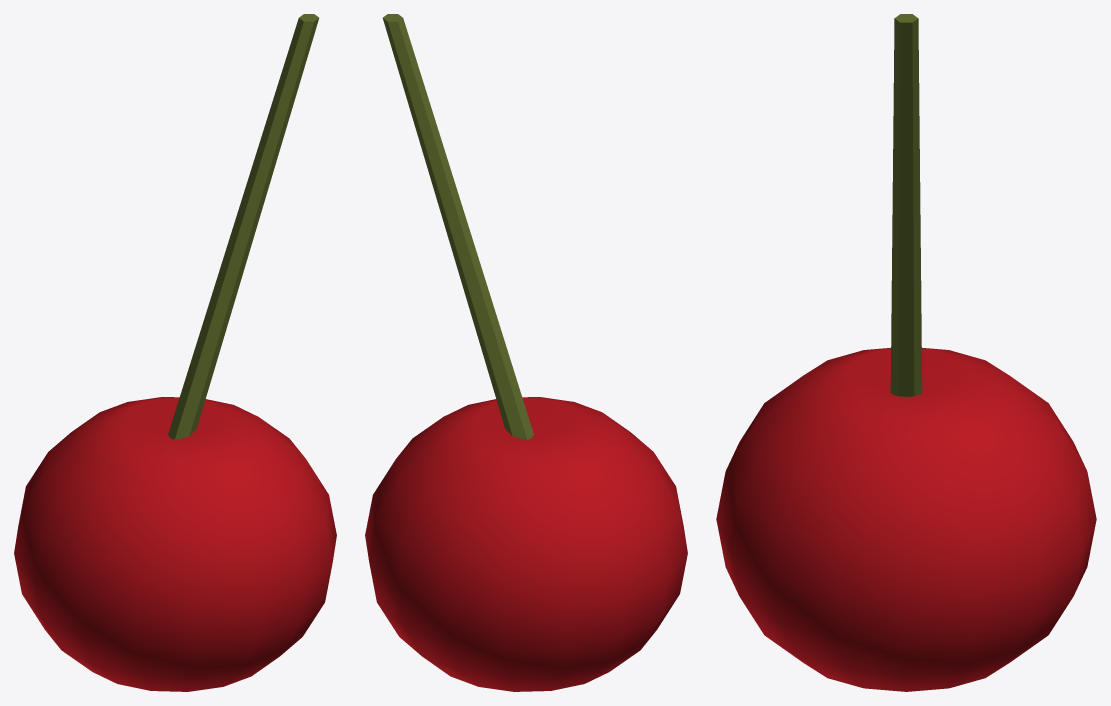
Rendered from topping-cereja.glb.
3 views of the same model, side by side, from view 1: azimuth 30°, elevation 25°; view 2: azimuth 150°, elevation 25°; view 3: azimuth 270°, elevation 25° (orthographic). The views are drawn at different scales.
Visible parts, largest first — view 1: topping-cereja; view 2: topping-cereja; view 3: topping-cereja.
Boxes of the visible parts, x1=… form: topping-cereja: x1=14, y1=14, x2=336, y2=691; topping-cereja: x1=365, y1=14, x2=687, y2=691; topping-cereja: x1=716, y1=14, x2=1096, y2=691.
Size of the model in its own units: 0.019 by 0.0404 by 0.019.
